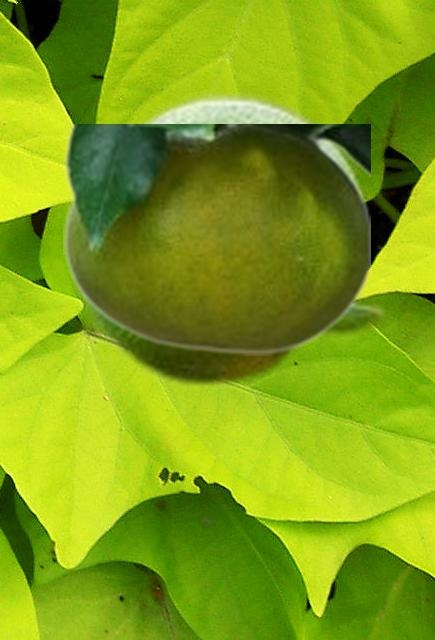dalandan: (66, 88, 390, 387), (63, 124, 369, 354)
